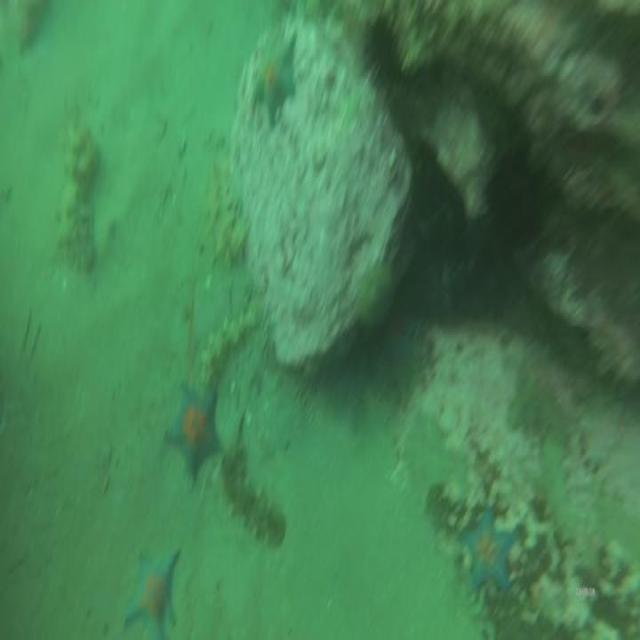echinus: (362, 11, 402, 92)
holothurian: (56, 114, 103, 289), (201, 133, 255, 272), (224, 446, 287, 546), (182, 308, 274, 372)
starfish: (163, 378, 226, 480), (125, 548, 184, 640), (462, 509, 518, 600), (250, 25, 300, 122)
